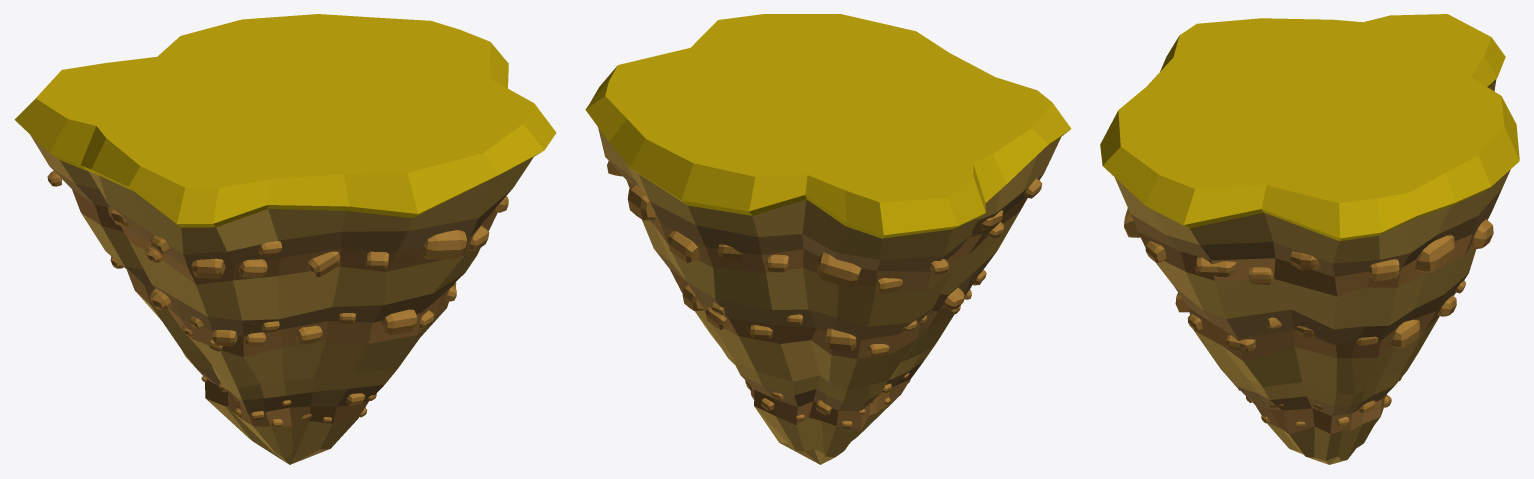
Rendered from DesertIsland.fbx.
3 renders of one model, left to right at view 1: azimuth 30°, elevation 25°; view 2: azimuth 150°, elevation 25°; view 3: azimuth 270°, elevation 25°, orthographic. The views are drawn at different scales.
Parts seen in each view (by area): view 1: DesertIsland; view 2: DesertIsland; view 3: DesertIsland.
Boxes of the visible parts, x1=… form: DesertIsland: x1=14, y1=14, x2=556, y2=464; DesertIsland: x1=585, y1=14, x2=1071, y2=464; DesertIsland: x1=1100, y1=14, x2=1519, y2=464.
Bounding box in the file's own units: 5002 × 4070 × 4310.
